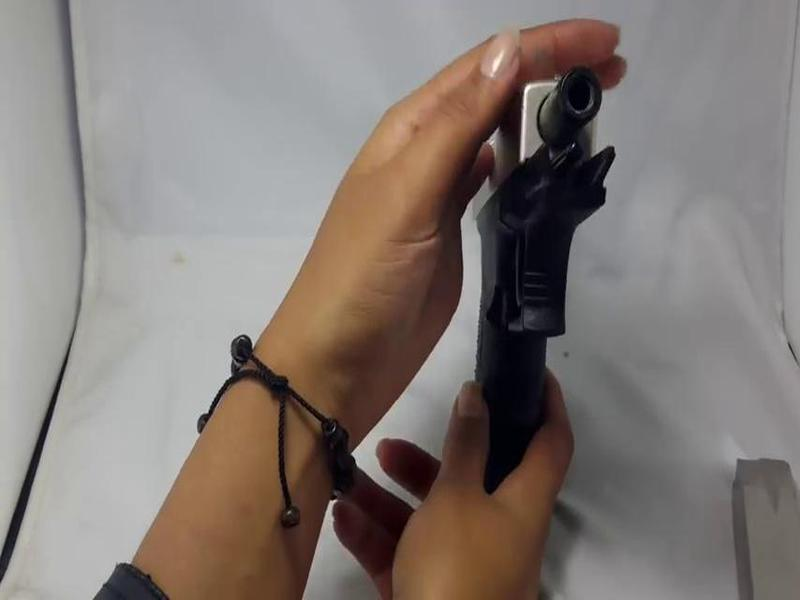Pistola: (433, 44, 627, 512)
